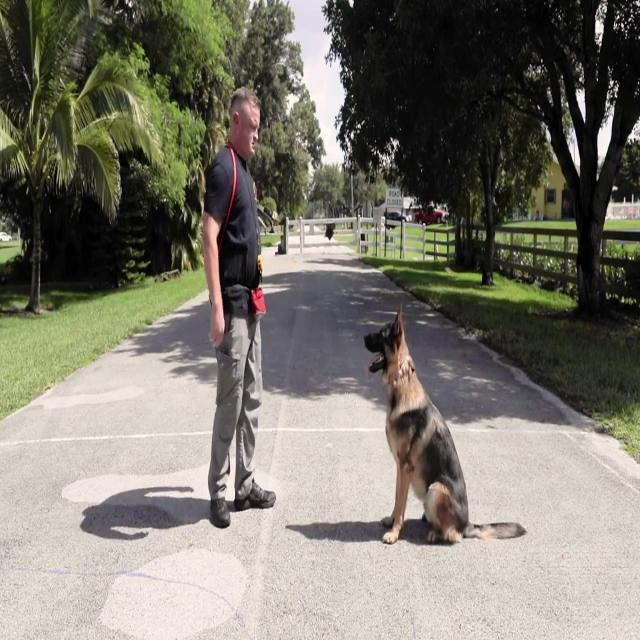Unleashed_Dog: (217, 304, 528, 546)
